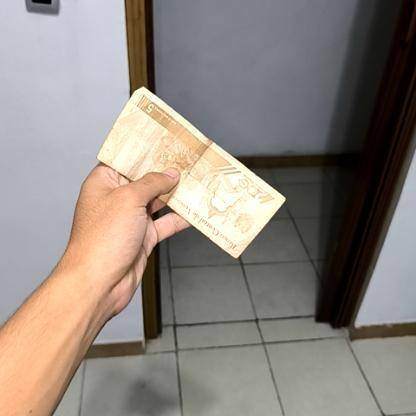five-back-vef: (95, 85, 288, 259)
